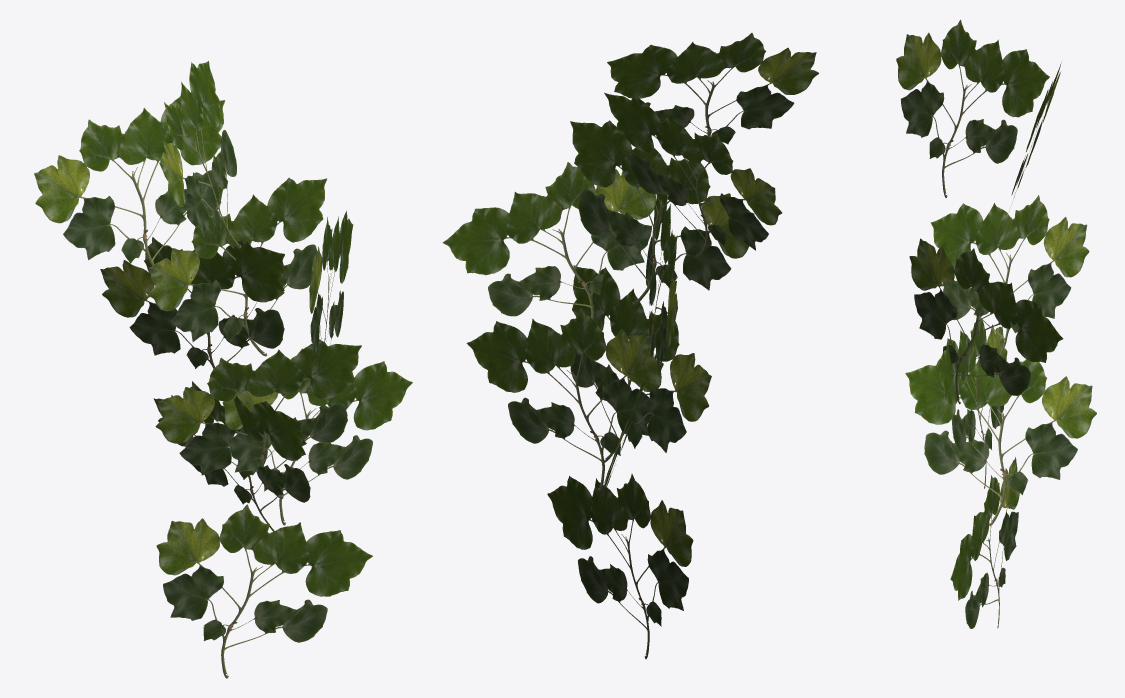
File: ivyjs1.fbx
3 views of the same model, side by side, from view 1: azimuth 30°, elevation 25°; view 2: azimuth 150°, elevation 25°; view 3: azimuth 270°, elevation 25° (orthographic). The views are drawn at different scales.
Visible parts, largest first — view 1: ivy1js.000, ivy1js.001, ivy1js.002; view 2: ivy1js.002, ivy1js.000, ivy1js.001; view 3: ivy1js.001, ivy1js.000, ivy1js.002.
Boxes of the visible parts, x1,y1,x2,y2 form: ivy1js.000: (148,61,361,498); ivy1js.001: (34,96,310,531); ivy1js.002: (156,210,412,678); ivy1js.002: (442,162,693,659); ivy1js.000: (570,33,818,462); ivy1js.001: (597,92,782,505); ivy1js.001: (905,63,1096,526); ivy1js.000: (896,19,1049,488); ivy1js.002: (909,238,1063,628).
Size of the model in its own units: 55.4 by 96.34 by 35.19.
Materials: 1 (1 with a texture image).
